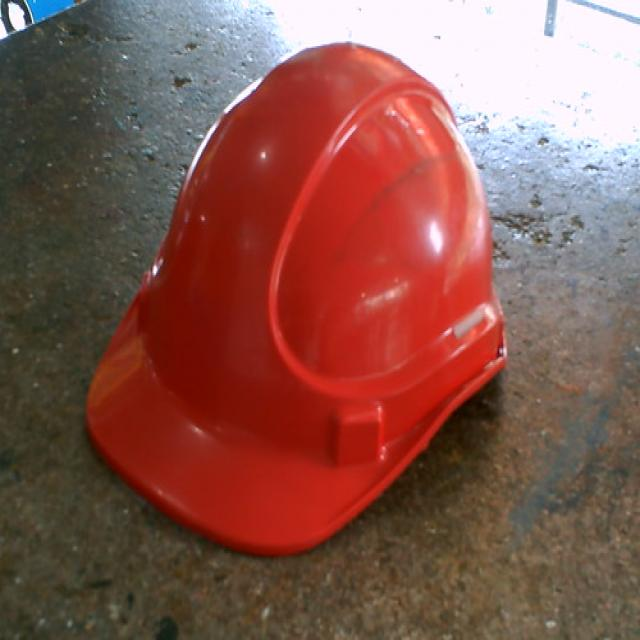Safety-Helmet: (17, 27, 531, 555)
